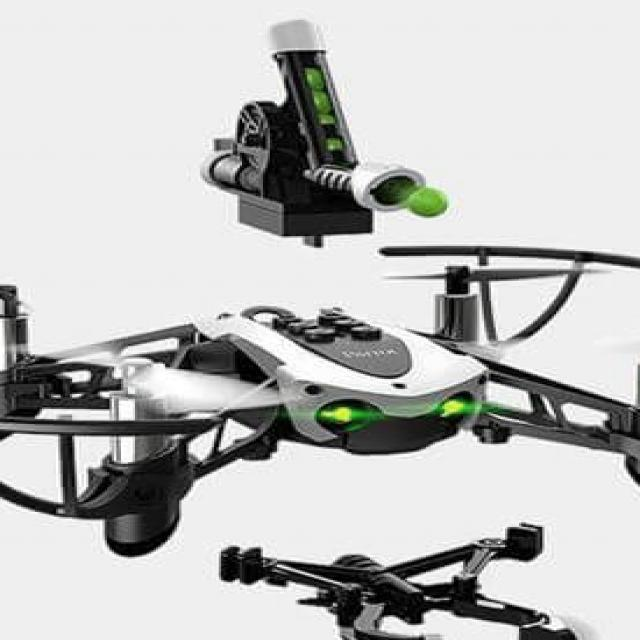drone: (0, 251, 640, 525)
